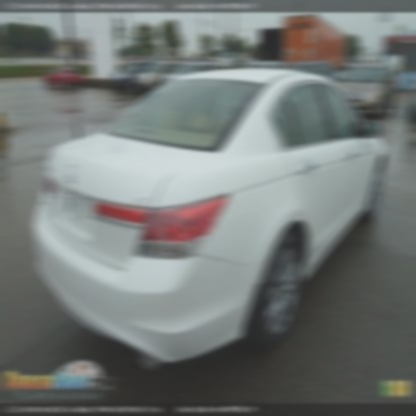Vehicle: (33, 72, 385, 372)
